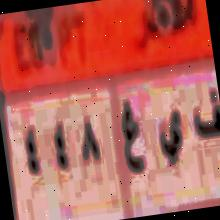8: (44, 112, 80, 178), (77, 112, 107, 172)
faa: (188, 84, 220, 149)
ghayn: (115, 96, 149, 181)
yaa: (154, 106, 190, 168)
